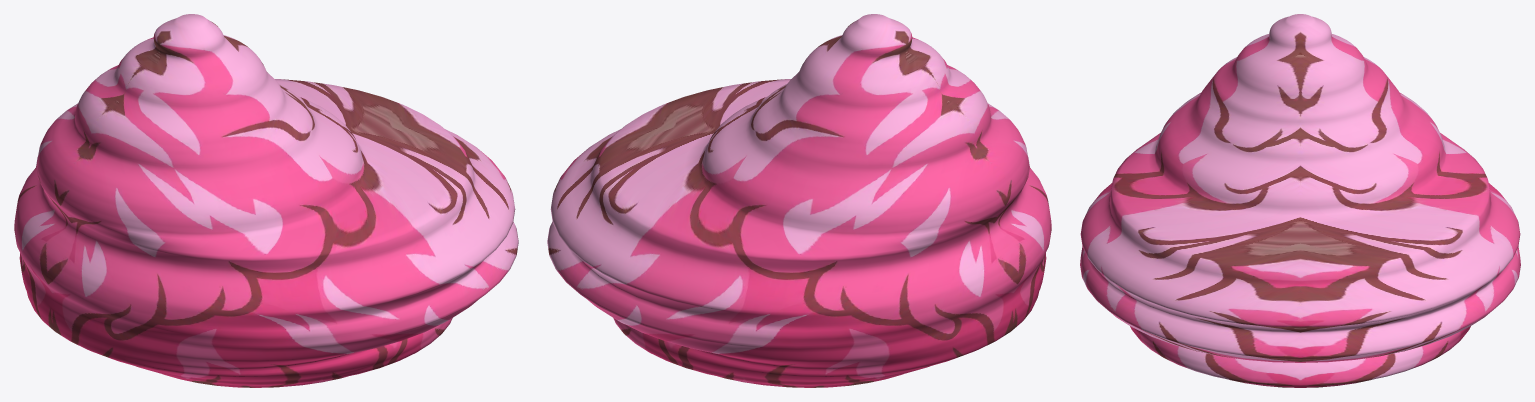
Rendered from pink_shrub.glb.
3 views of the same model, side by side, from view 1: azimuth 30°, elevation 25°; view 2: azimuth 150°, elevation 25°; view 3: azimuth 270°, elevation 25° (orthographic). The views are drawn at different scales.
Parts seen in each view (by area): view 1: pink_shrub; view 2: pink_shrub; view 3: pink_shrub.
Boxes of the visible parts, x1=… form: pink_shrub: x1=14, y1=14, x2=518, y2=387; pink_shrub: x1=547, y1=14, x2=1051, y2=387; pink_shrub: x1=1080, y1=14, x2=1520, y2=387.
Bounding box in the file's own units: 0.9974 × 0.7523 × 0.9838.
Materials: 1 (1 with a texture image).
